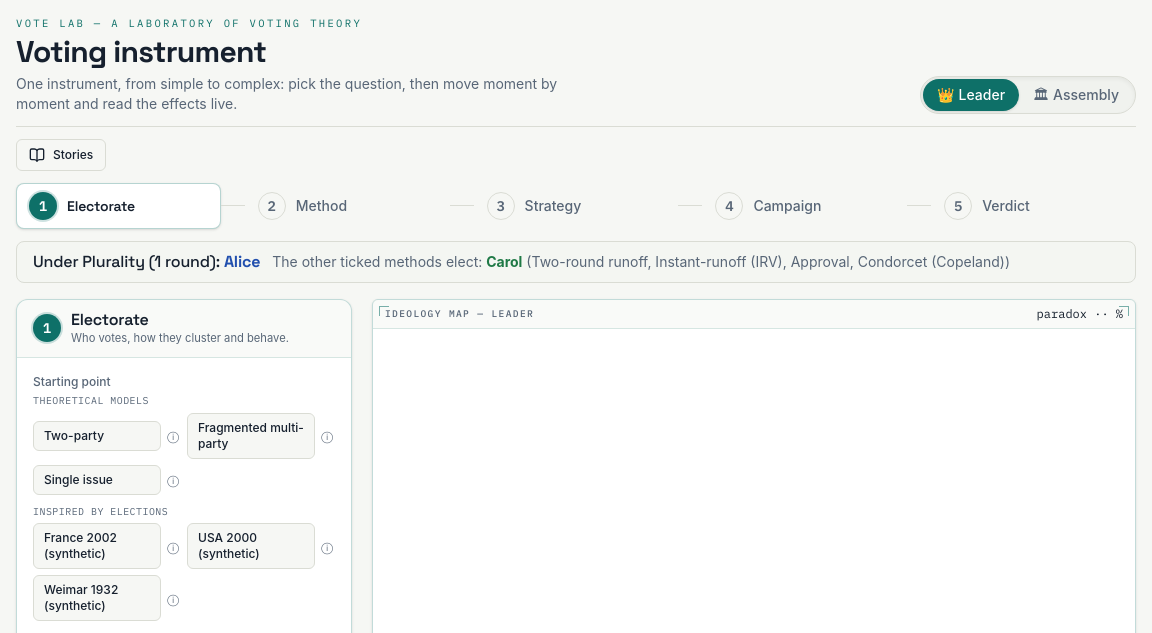
Test: PlaygroundPage (P0 shell) › parliament mode shows the structure scorecard from the backend with bands
Click the radio button with test id "mode-toggle-parliament": [1076, 95] box [1019, 79, 1133, 111]
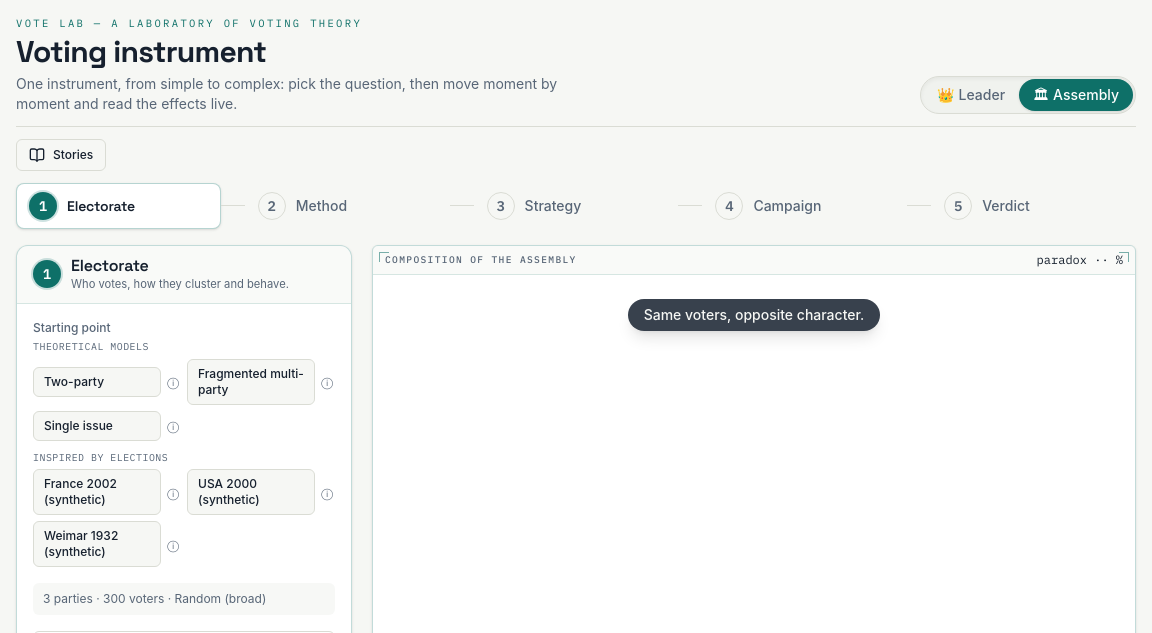
Click the radio button with test id "moment-bilan": [1034, 206] box [931, 183, 1136, 229]
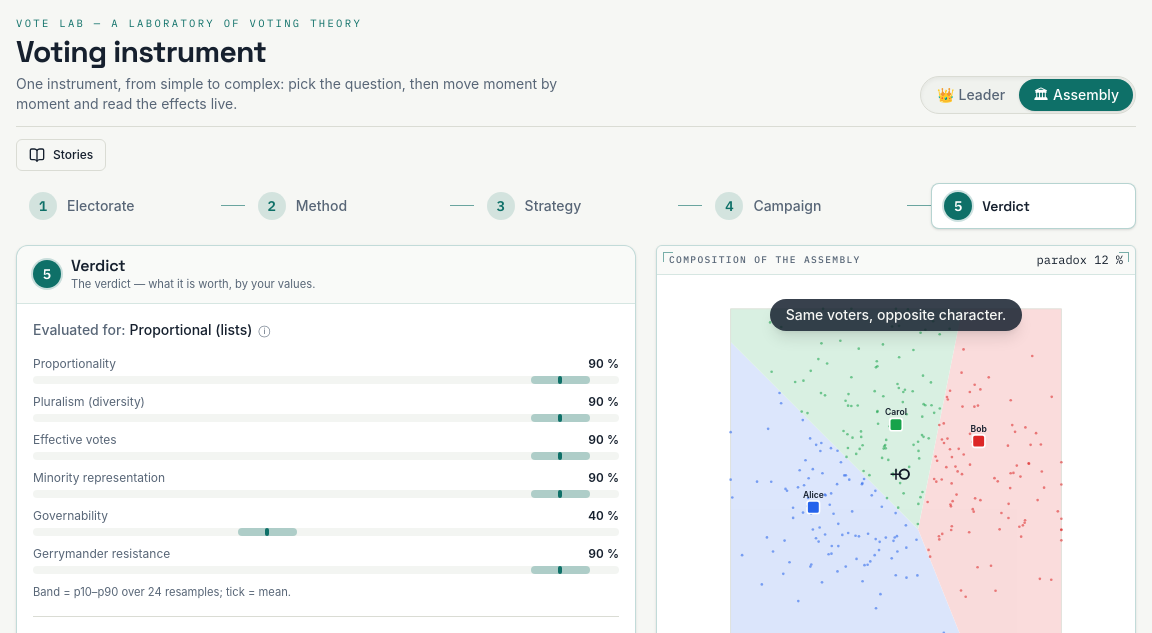
Expected: the element with test id "axis-proportionality" shows "90 %", [588, 356, 619, 371]
